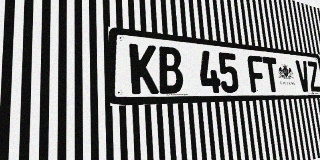4: (198, 50, 221, 93)
5: (218, 52, 240, 93)
B: (157, 46, 184, 94)
F: (247, 55, 266, 92)
K: (129, 43, 159, 94)
T: (262, 56, 280, 92)
V: (295, 60, 311, 92)
Z: (306, 61, 320, 92)
